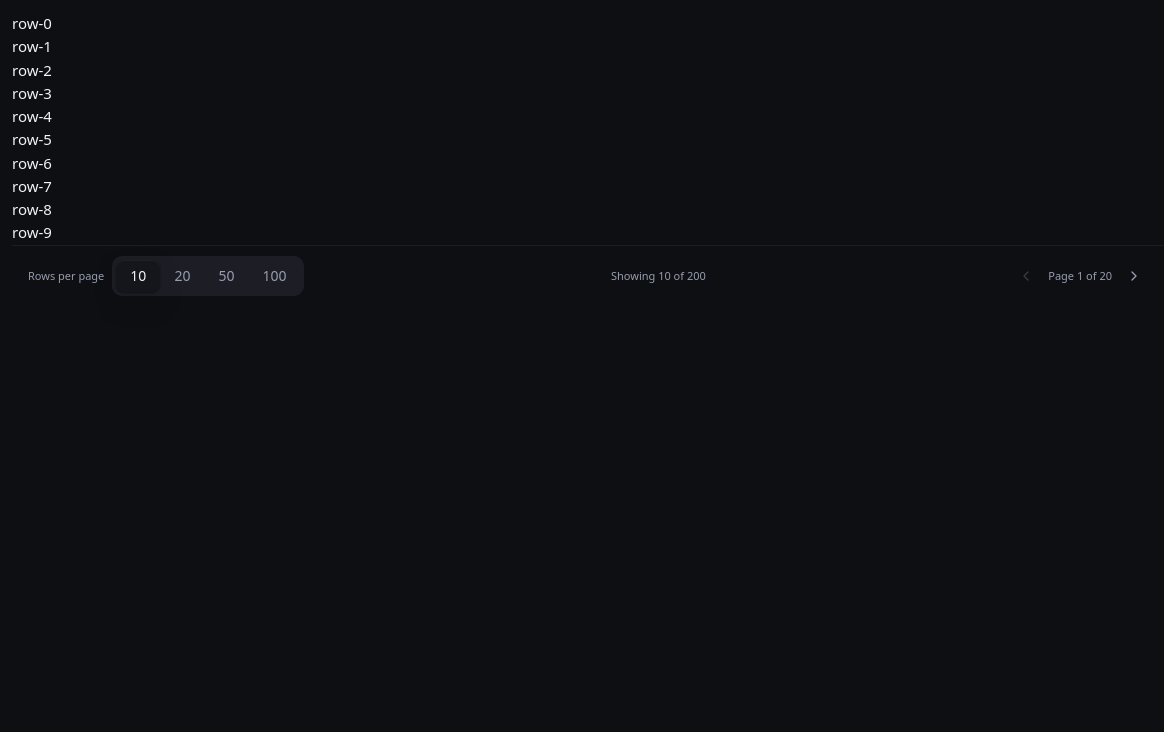
the size selector ANCHORS rather than resetting to page one › keeps the row that was at the top of the page in view when the size grows
Click the button named "Next page". click: [1134, 276]
box: [1120,262,1148,290]
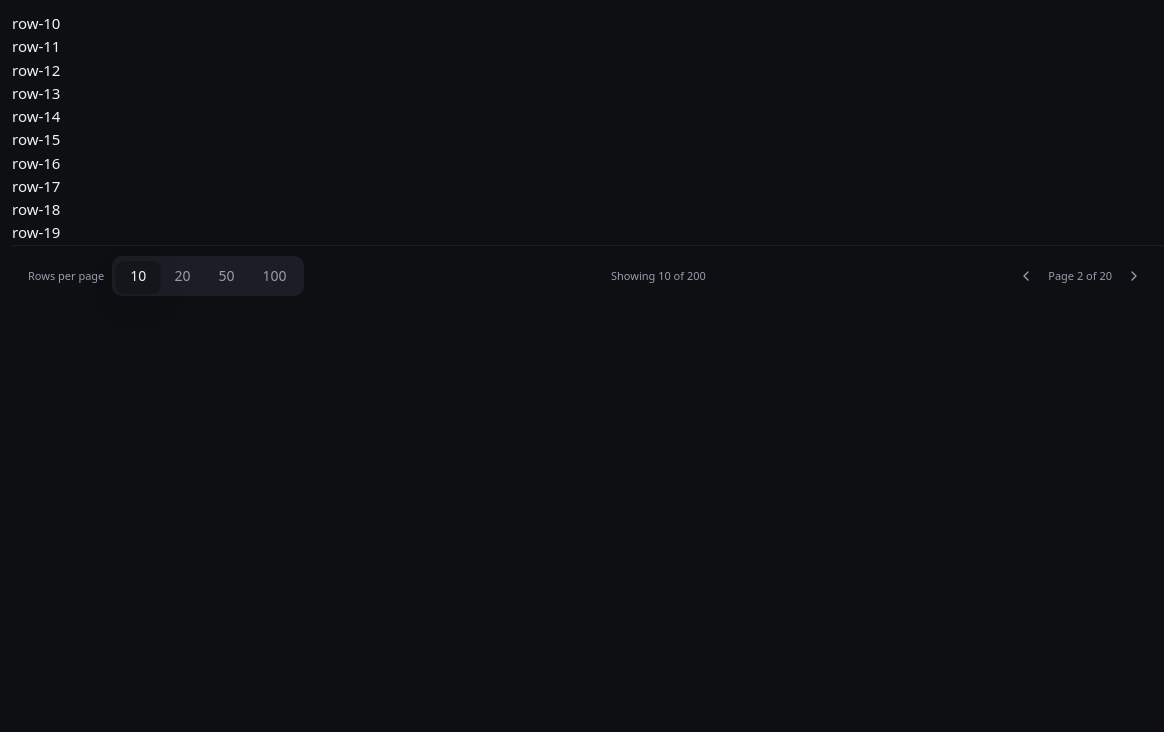
Click the button named "Next page". click: [1134, 276]
box: [1120,262,1148,290]
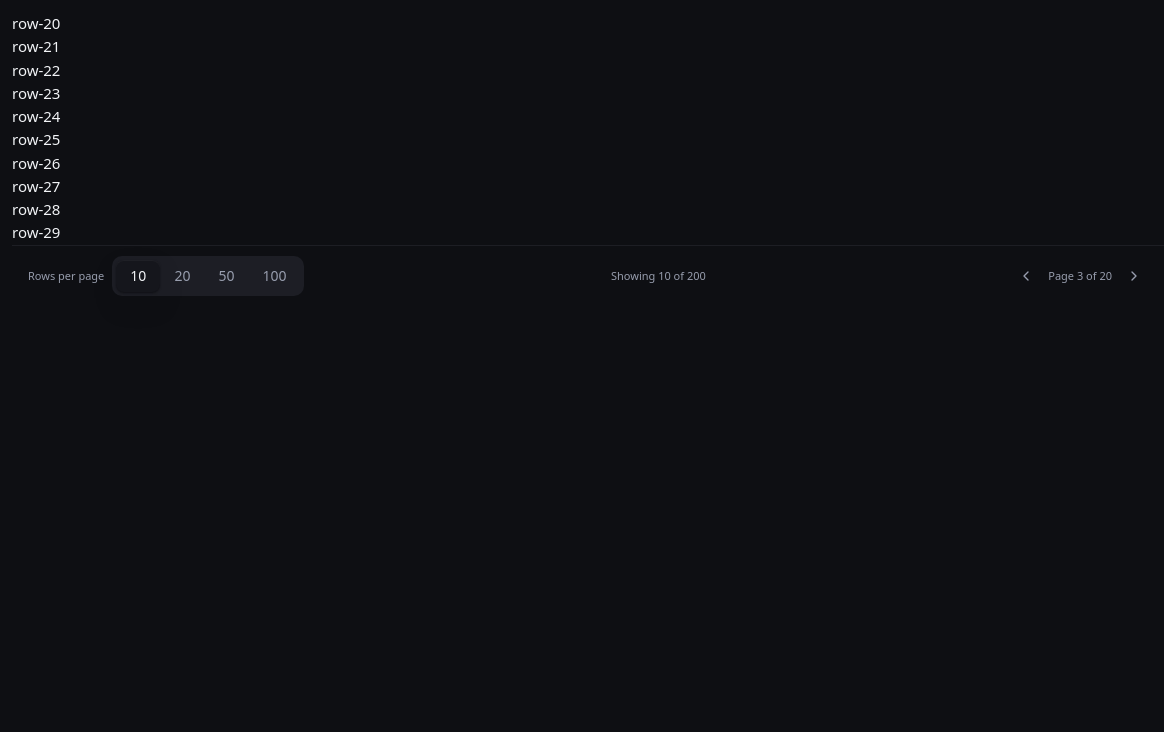
Click the button named "Next page". click: [1134, 276]
box: [1120,262,1148,290]
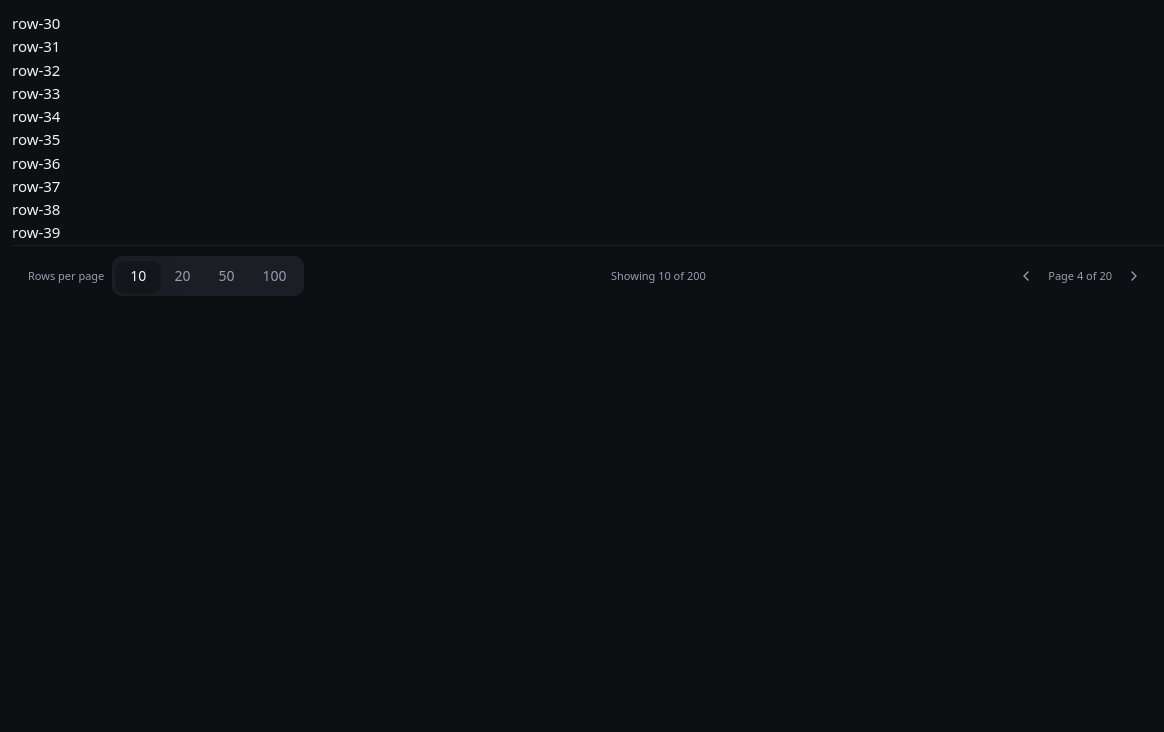
Click the button named "Next page". click: [1134, 276]
box: [1120,262,1148,290]
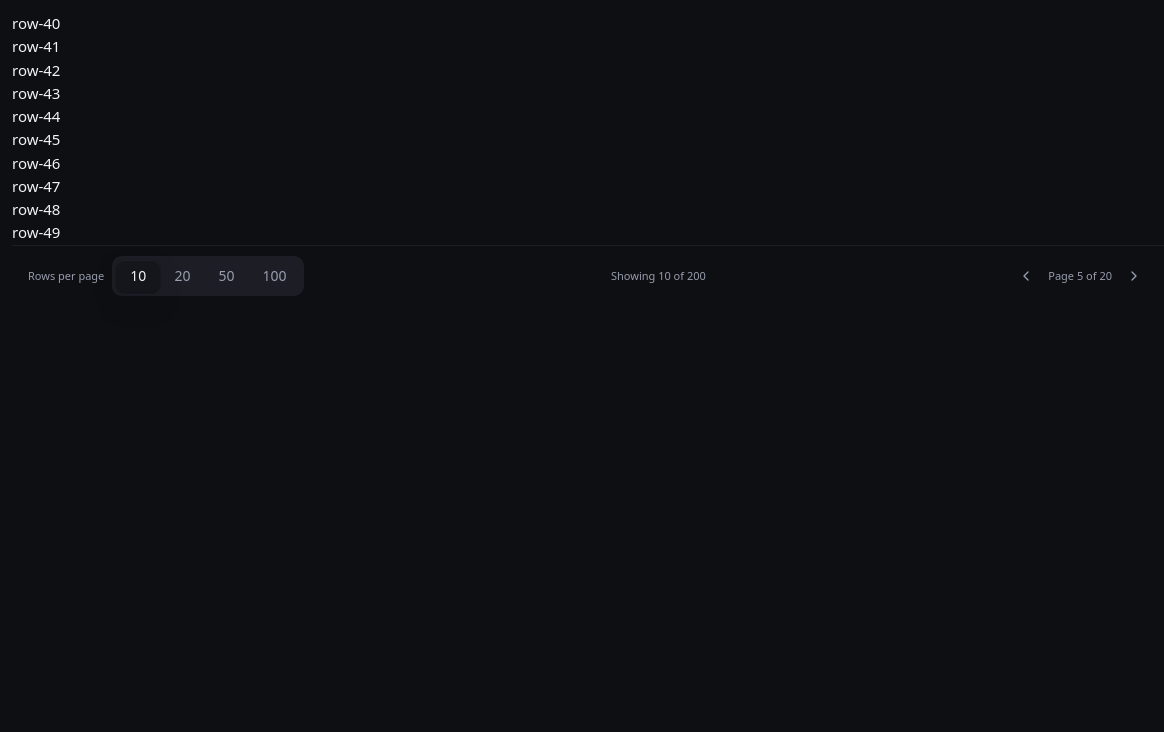
Result: the list item with test id "row" reads "row-40" at [12,13,60,33]
Click the radio button labelled "50". click: [226, 276]
box: [204,260,248,292]
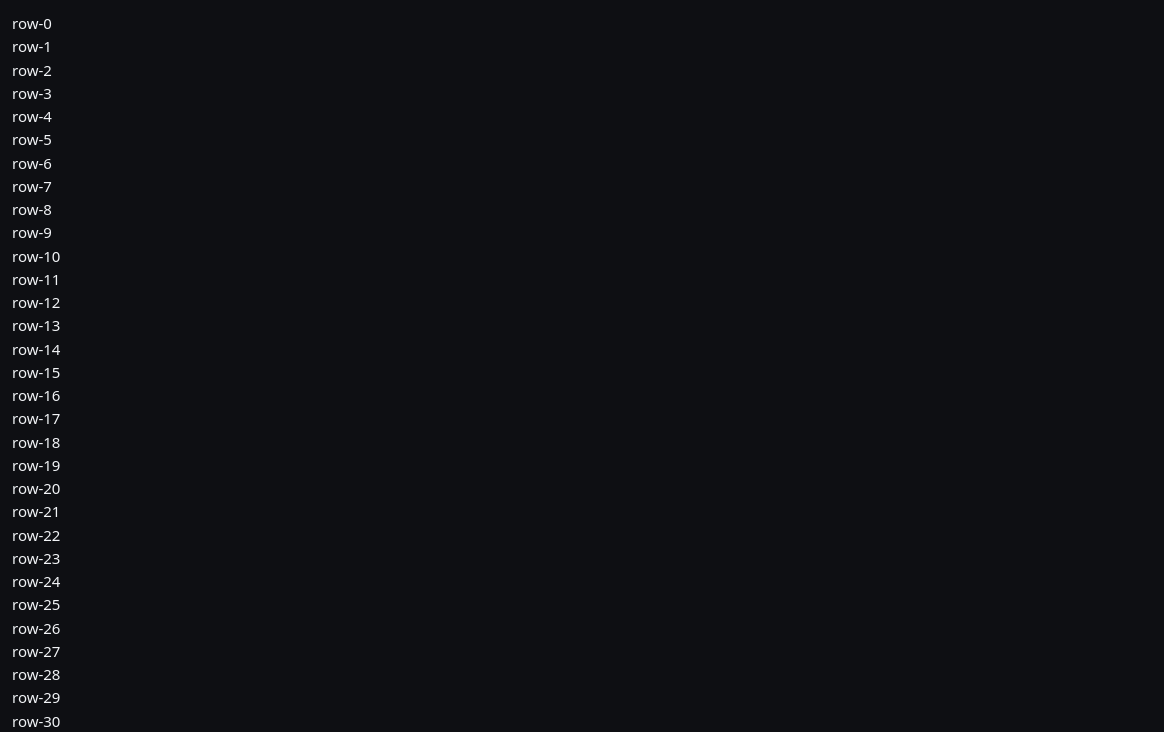
Result: the list item with test id "row" reads "row-0" at [12,13,52,33]
